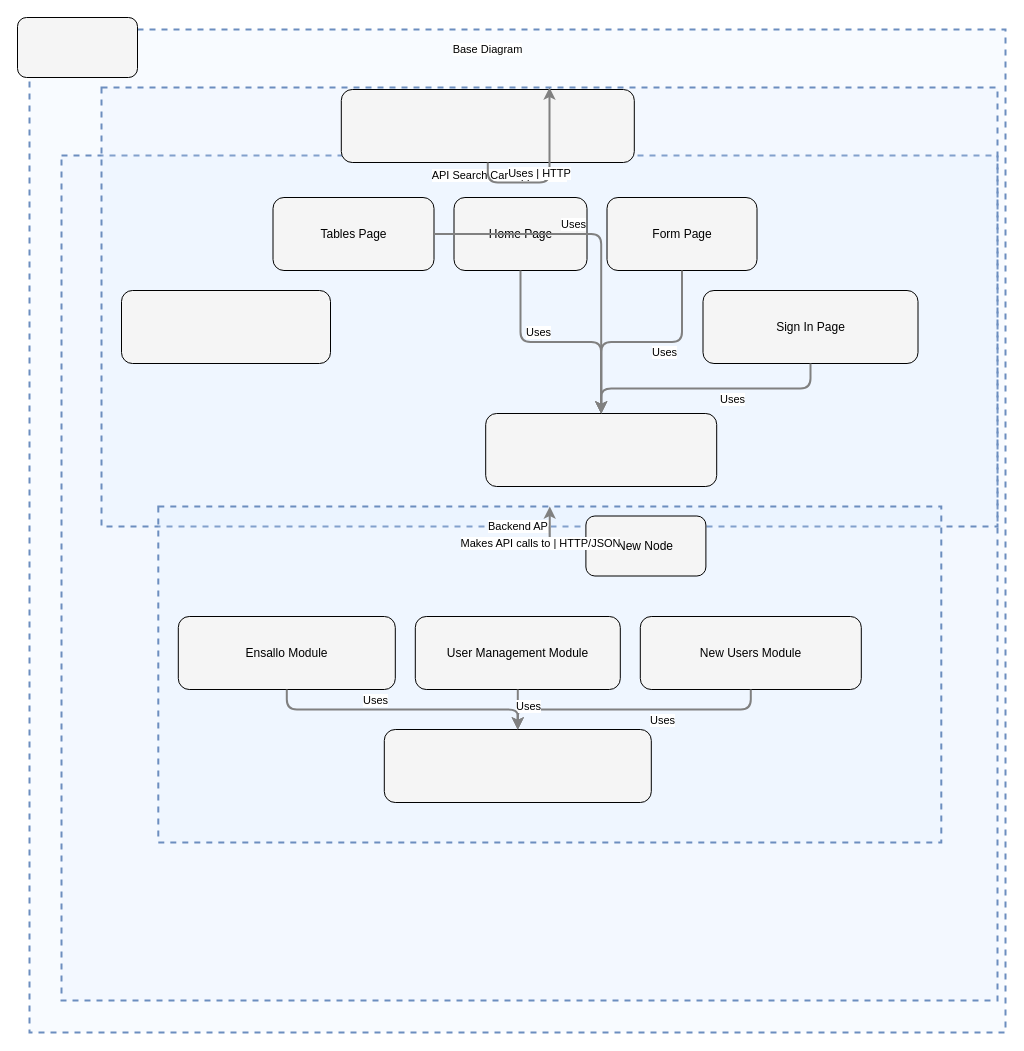
The diagram is 1024 pixels wide and 1051 high, and some of its shapes have lost their labels. Each missing label, with the centre of its shape:
"Base Module" goes at (x=517, y=765).
"Frontend Logic" goes at (x=601, y=449).
"Static Assets" goes at (x=225, y=327).
"User" goes at (x=487, y=125).
